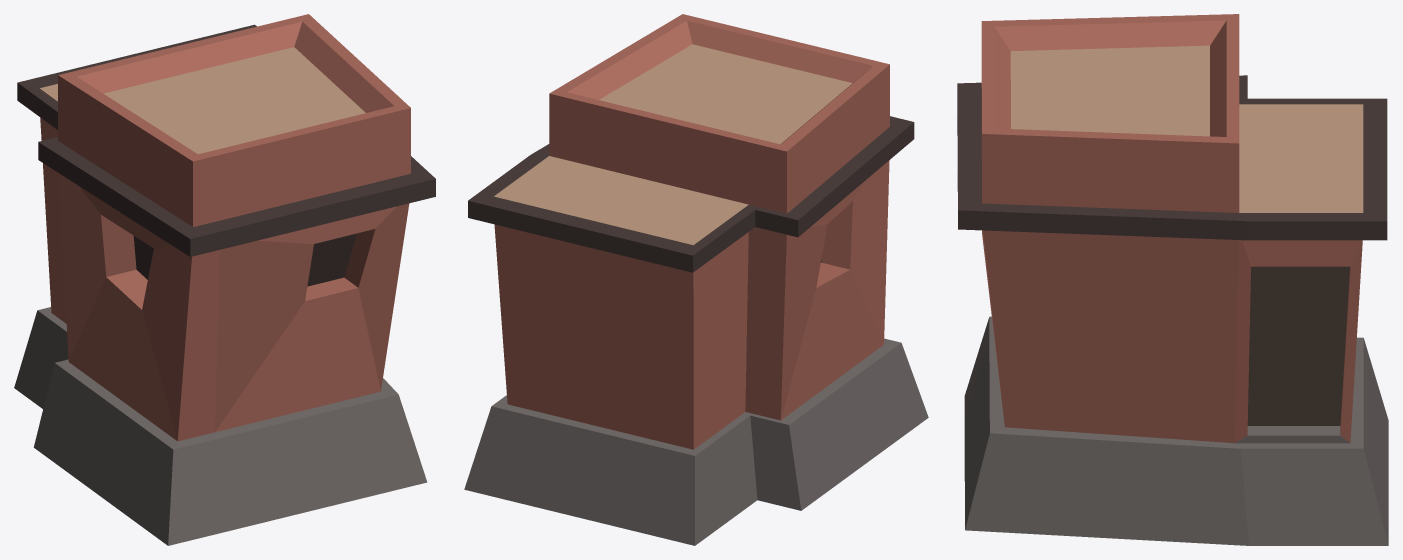
File: house2.fbx
The picture shows the model from 3 angles, left to right: view 1: azimuth 30°, elevation 25°; view 2: azimuth 150°, elevation 25°; view 3: azimuth 270°, elevation 25°; orthographic projection. The views are drawn at different scales.
Parts seen in each view (by area): view 1: pCube42; view 2: pCube42; view 3: pCube42.
Part boxes in pixels (<box>): pCube42: <box>14,14,435,545</box>; pCube42: <box>464,14,928,545</box>; pCube42: <box>957,14,1388,545</box>.
Size of the model in its own units: 11 by 13.46 by 13.4.
